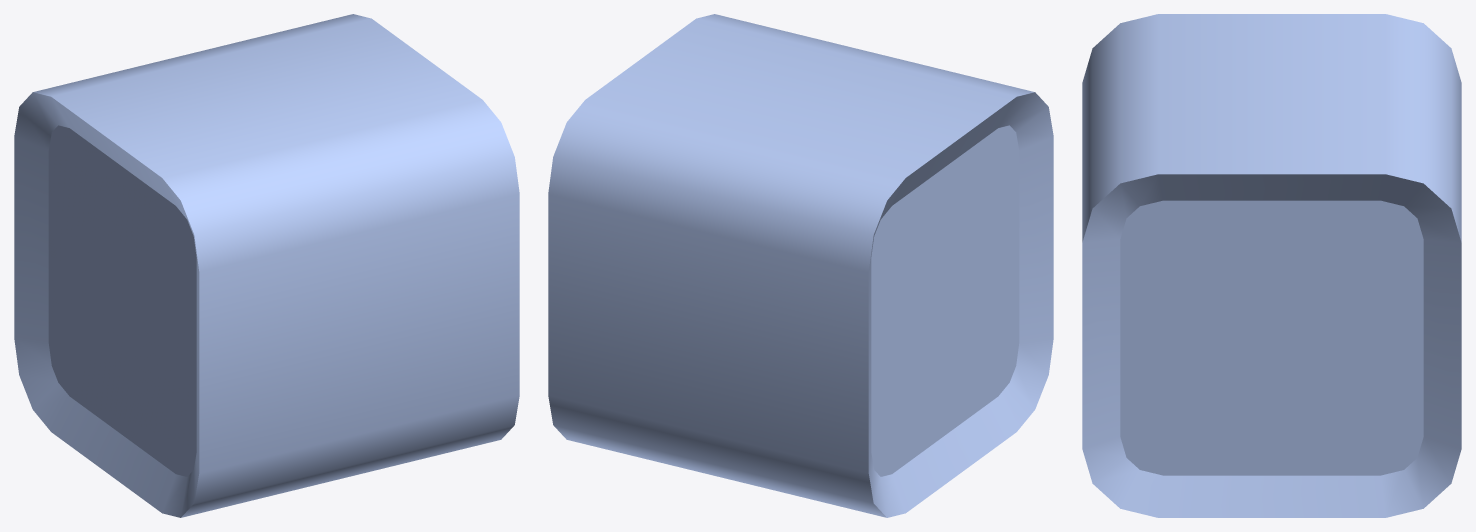
The picture shows the model from 3 angles, left to right: view 1: azimuth 30°, elevation 25°; view 2: azimuth 150°, elevation 25°; view 3: azimuth 270°, elevation 25°; orthographic projection. The views are drawn at different scales.
Parts seen in each view (by area): view 1: cube_aa_mesh; view 2: cube_aa_mesh; view 3: cube_aa_mesh.
Part boxes in pixels (<box>): cube_aa_mesh: <box>14,14,519,517</box>; cube_aa_mesh: <box>548,14,1053,517</box>; cube_aa_mesh: <box>1082,14,1461,517</box>.
Bounding box in the file's own units: 2 × 2 × 2.
